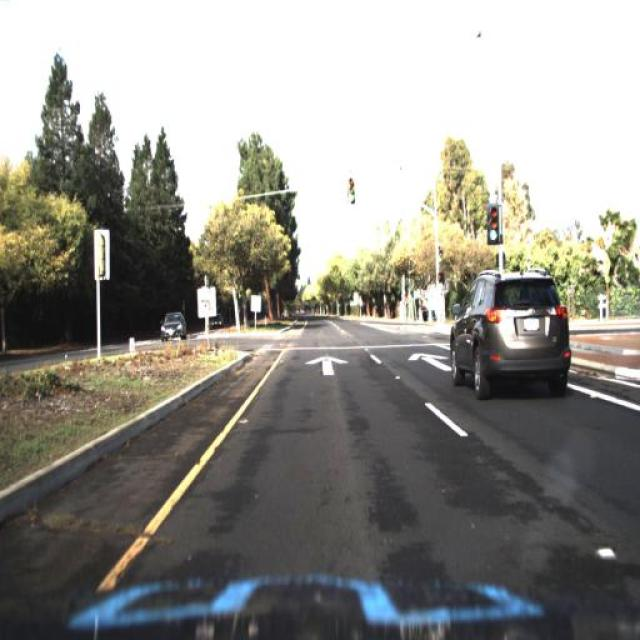car: (448, 269, 572, 401), (156, 308, 190, 343)
trafficLight-GreenLeft: (487, 194, 501, 248), (345, 186, 357, 210), (348, 176, 357, 202), (436, 238, 443, 268)
